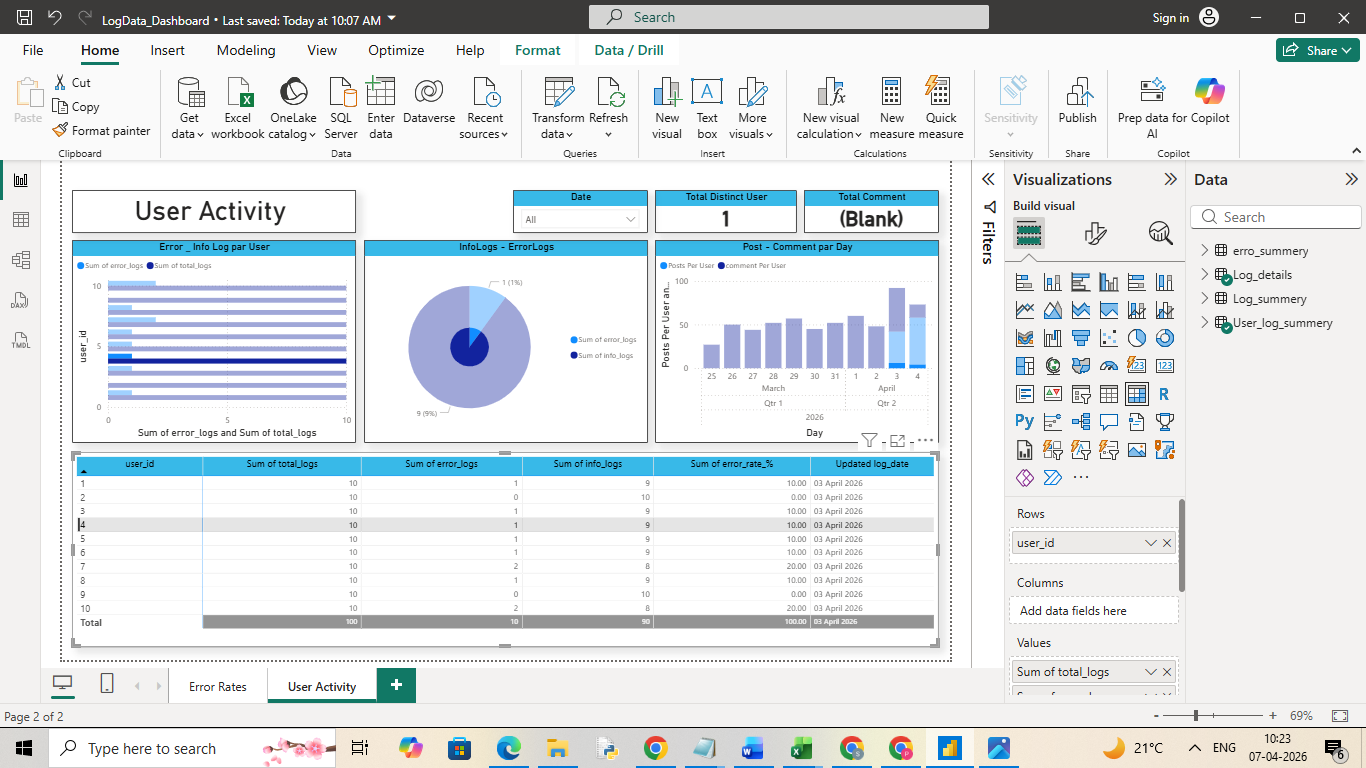

The dashboard page shown, as its layout file describes it:
{"tool":"powerbi","page":{"name":"User Activity","canvas":[1280,720],"ordinal":1},"visuals":[{"type":"pivotTable","fields":{"Rows":["User_log_summery.user_id"],"Values":["Sum(User_log_summery.total_logs)","Sum(User_log_summery.error_logs)","Sum(User_log_summery.info_logs)","Sum(User_log_summery.error_rate_%)","Min(Log_details.log_date)"]},"box":[14.4,420.5,1248.5,280.8],"z":0},{"type":"pieChart","title":"InfoLogs - ErrorLogs","fields":{"Y":["Sum(User_log_summery.error_logs)","Sum(User_log_summery.info_logs)"]},"box":[434.9,115.2,409,292.3],"z":1000},{"type":"columnChart","title":"Post - Comment par Day","fields":{"Category":["Log_summery.log_date.Variation.Date Hierarchy.Year","Log_summery.log_date.Variation.Date Hierarchy.Quarter","Log_summery.log_date.Variation.Date Hierarchy.Month","Log_summery.log_date.Variation.Date Hierarchy.Day"],"Y":["Log_details.Posts Per User","Log_details.comment Per User"]},"box":[853.9,115.2,409,292.3],"z":2000},{"type":"card","title":"Total Distinct User","fields":{"Values":["CountNonNull(User_log_summery.user_id)"]},"box":[853.9,43.2,204.5,61.9],"z":4000},{"type":"card","title":"Total Comment","fields":{"Values":["Log_details.comment Per User"]},"box":[1068.5,43.2,194.4,61.9],"z":5000},{"type":"slicer","title":"Date","fields":{"Values":["Log_summery.log_date"]},"box":[649.4,43.2,194.4,61.9],"z":6000},{"type":"clusteredBarChart","title":"Error _ Info Log par User","fields":{"Category":["User_log_summery.user_id"],"Y":["Sum(User_log_summery.error_logs)","Sum(User_log_summery.total_logs)"]},"box":[14.4,115.2,409,292.3],"z":7000},{"type":"textbox","box":[14.4,43.2,409,61.9],"z":7001}]}

Visuals, with their boxes on the page's 1280x720 design canvas (x1, y1, x2, y2). These are canvas units, not pixel positions in the 1366x768 screenshot, which may show the page scaled, cropped or inside an application window:
pivotTable - User_log_summery.user_id x Sum(User_log_summery.total_logs): box(14, 420, 1263, 701)
"InfoLogs - ErrorLogs" pieChart: box(435, 115, 844, 408)
"Post - Comment par Day" columnChart: box(854, 115, 1263, 408)
"Total Distinct User" card: box(854, 43, 1058, 105)
"Total Comment" card: box(1068, 43, 1263, 105)
"Date" slicer: box(649, 43, 844, 105)
"Error _ Info Log par User" clusteredBarChart: box(14, 115, 423, 408)
textbox: box(14, 43, 423, 105)
